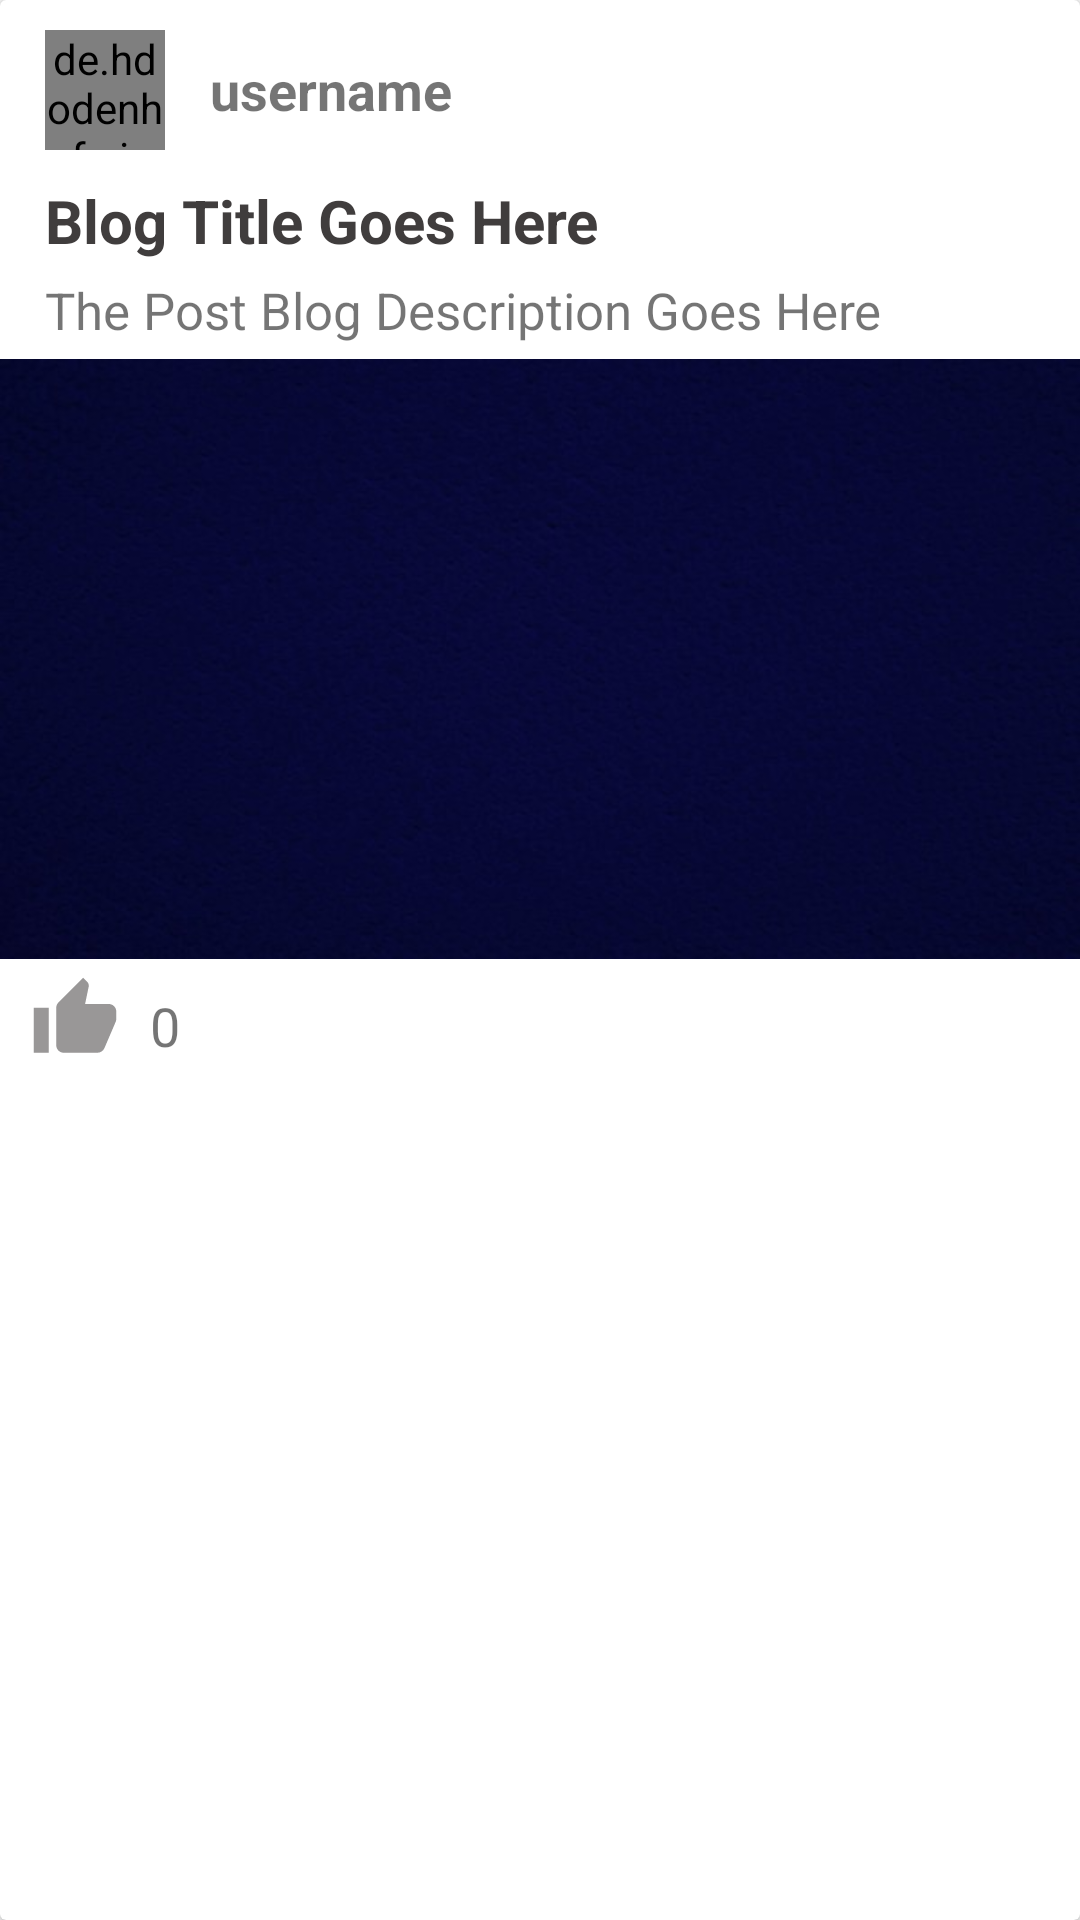

Locate icon controls on the screen. Image size 1080×1920, boxes as (x1, y1, x2, y2).
like: (33, 978, 117, 1053)
